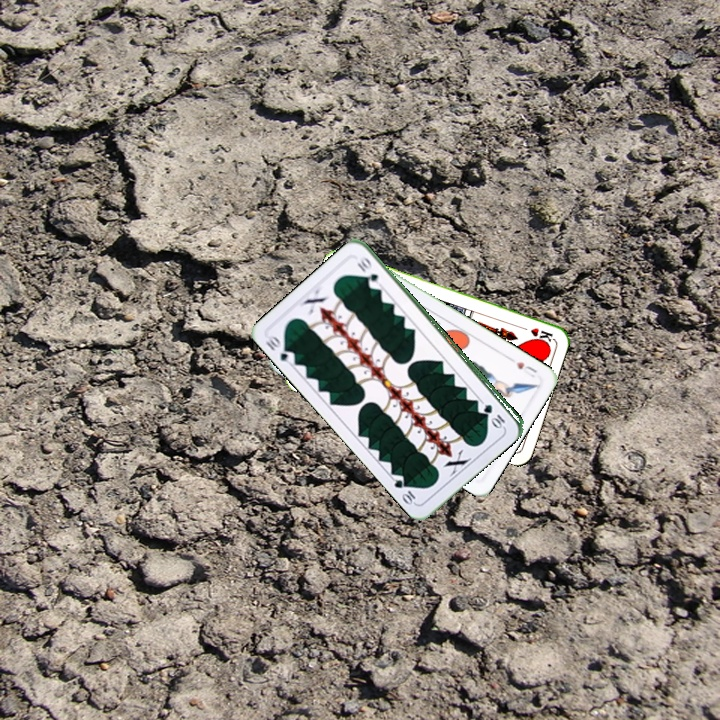G10: (262, 332, 298, 367), (480, 400, 508, 430)
HK: (515, 322, 555, 345)
HU: (505, 354, 540, 380)
